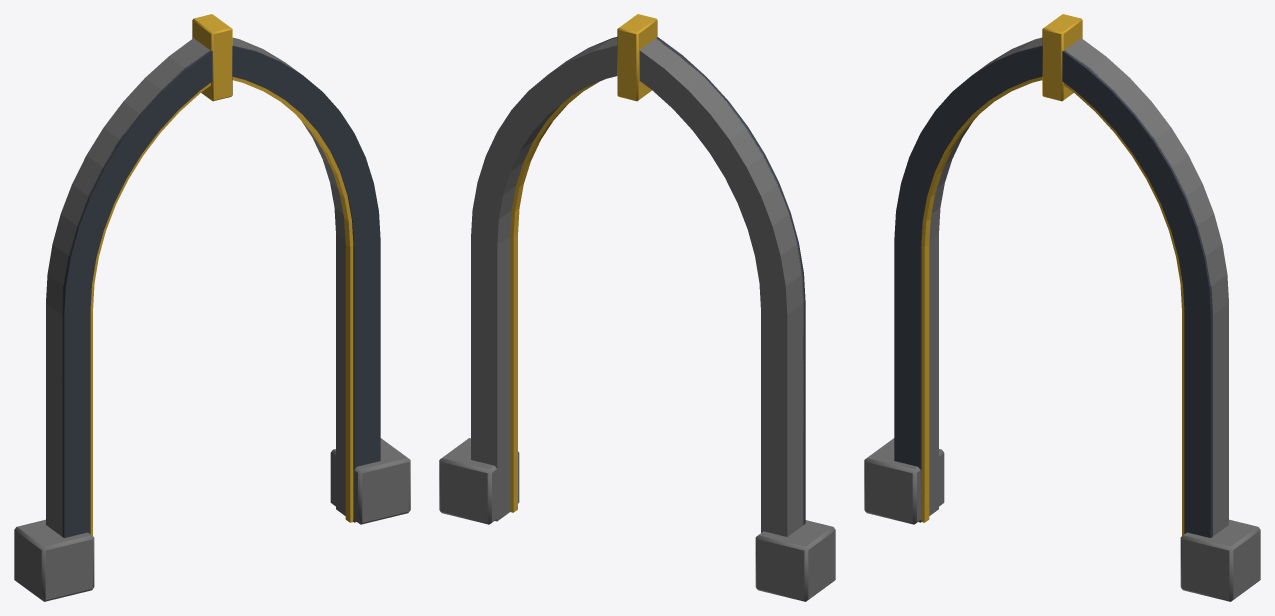
Rendered from doorframe_gothic_arch.glb.
The picture shows the model from 3 angles, left to right: view 1: azimuth 30°, elevation 25°; view 2: azimuth 150°, elevation 25°; view 3: azimuth 330°, elevation 25°; orthographic projection.
Visible parts, largest first — view 1: doorframe_gothic_arch; view 2: doorframe_gothic_arch; view 3: doorframe_gothic_arch.
Part boxes in pixels (x1=…): doorframe_gothic_arch: x1=14, y1=14, x2=410, y2=601; doorframe_gothic_arch: x1=439, y1=14, x2=835, y2=601; doorframe_gothic_arch: x1=864, y1=14, x2=1260, y2=601.
Bounding box in the file's own units: 2.8 × 3.8 × 0.4.
